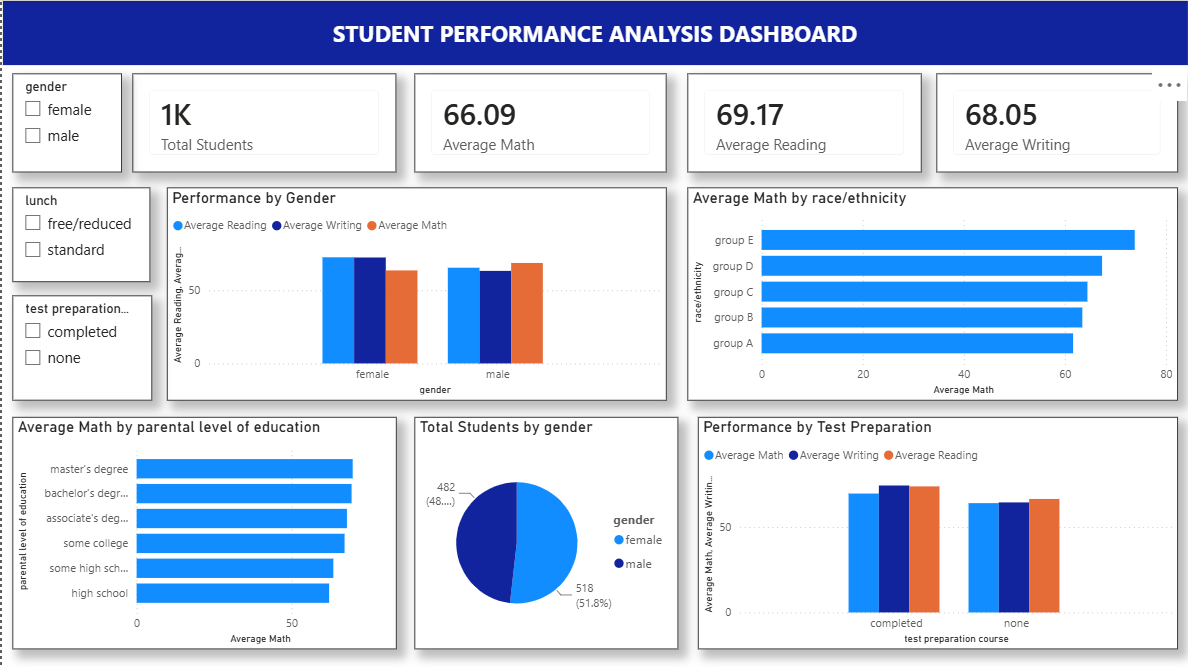

The dashboard page shown, as its layout file describes it:
{"tool":"powerbi","page":{"name":"Page 1","canvas":[1280,720],"ordinal":0},"visuals":[{"type":"cardVisual","fields":{"Data":["StudentsPerformance.Total Students"]},"box":[140.9,79.3,285,106.9],"z":0},{"type":"cardVisual","fields":{"Data":["StudentsPerformance.Average Math"]},"box":[445.3,79.3,272,106.9],"z":1},{"type":"cardVisual","fields":{"Data":["StudentsPerformance.Average Reading"]},"box":[740,79.3,252.6,106.9],"z":2},{"type":"cardVisual","fields":{"Data":["StudentsPerformance.Average Writing"]},"box":[1008.8,79.3,260.7,106.9],"z":3},{"type":"clusteredColumnChart","title":"Performance by Gender","fields":{"Category":["StudentsPerformance.gender"],"Y":["StudentsPerformance.Average Reading","StudentsPerformance.Average Writing","StudentsPerformance.Average Math"]},"box":[178.1,202.4,539.2,229.9],"z":4},{"type":"clusteredColumnChart","title":"Performance by Test Preparation","fields":{"Category":["StudentsPerformance.test preparation course"],"Y":["StudentsPerformance.Average Math","StudentsPerformance.Average Writing","StudentsPerformance.Average Reading"]},"box":[751.3,450.1,518.2,251],"z":5},{"type":"barChart","fields":{"Category":["StudentsPerformance.parental level of education"],"Y":["StudentsPerformance.Average Math"]},"box":[11.3,450.1,414.5,251],"z":6},{"type":"pieChart","fields":{"Category":["StudentsPerformance.gender"],"Y":["StudentsPerformance.Total Students"]},"box":[445.3,450.1,285,251],"z":7},{"type":"barChart","fields":{"Category":["StudentsPerformance.race/ethnicity"],"Y":["StudentsPerformance.Average Math"]},"box":[740,202.4,529.5,229.9],"z":8},{"type":"slicer","fields":{"Values":["StudentsPerformance.gender"]},"box":[11.3,79.3,118.2,106.9],"z":9},{"type":"slicer","fields":{"Values":["StudentsPerformance.lunch"]},"box":[11.3,202.4,149,102],"z":10},{"type":"slicer","fields":{"Values":["StudentsPerformance.test preparation course"]},"box":[11.3,319,150.6,113.3],"z":11},{"type":"shape","box":[0,0,1280.8,71.2],"z":12}]}

Visuals, with their boxes in screenshot pixels (x1, y1, x2, y2), scaled from the page's 1280x720 canvas onto the 1188x667 screenshot:
cardVisual - StudentsPerformance.Total Students: box(131, 73, 395, 172)
cardVisual - StudentsPerformance.Average Math: box(413, 73, 666, 172)
cardVisual - StudentsPerformance.Average Reading: box(687, 73, 921, 172)
cardVisual - StudentsPerformance.Average Writing: box(936, 73, 1178, 172)
"Performance by Gender" clusteredColumnChart: box(165, 188, 666, 400)
"Performance by Test Preparation" clusteredColumnChart: box(697, 417, 1178, 649)
barChart - StudentsPerformance.parental level of education x StudentsPerformance.Average Math: box(10, 417, 395, 649)
pieChart - StudentsPerformance.gender x StudentsPerformance.Total Students: box(413, 417, 678, 649)
barChart - StudentsPerformance.race/ethnicity x StudentsPerformance.Average Math: box(687, 188, 1178, 400)
slicer - StudentsPerformance.gender: box(10, 73, 120, 172)
slicer - StudentsPerformance.lunch: box(10, 188, 149, 282)
slicer - StudentsPerformance.test preparation course: box(10, 296, 150, 400)
shape: box(0, 0, 1187, 66)
